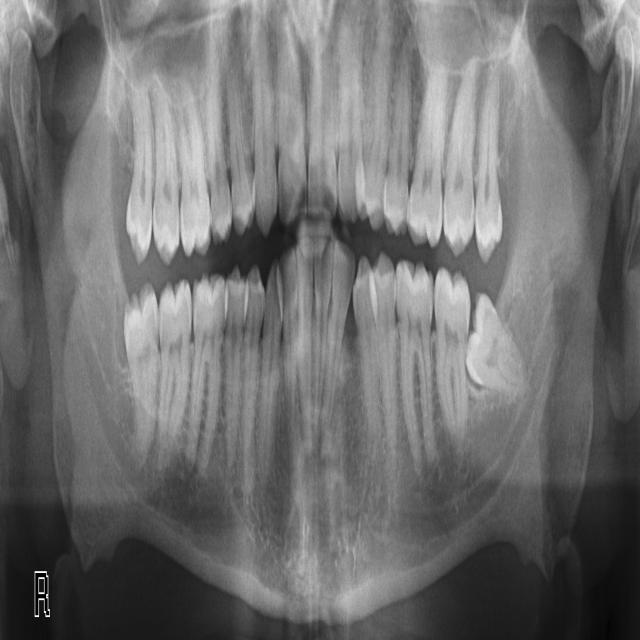tooth: (396, 260, 435, 462), (358, 14, 391, 231), (308, 0, 340, 219), (189, 276, 223, 473), (433, 268, 471, 439), (276, 7, 306, 222), (409, 60, 443, 246), (442, 63, 474, 251), (283, 249, 313, 440), (473, 64, 503, 253), (177, 91, 210, 254), (125, 284, 158, 445), (337, 12, 362, 222), (251, 50, 279, 229), (152, 80, 180, 258), (159, 282, 190, 442), (202, 76, 231, 243), (469, 294, 519, 390), (241, 268, 263, 479), (127, 86, 153, 258), (386, 47, 410, 232), (227, 66, 253, 232), (223, 270, 245, 465), (352, 256, 374, 414), (264, 256, 281, 398), (330, 246, 352, 353), (315, 246, 331, 366)
